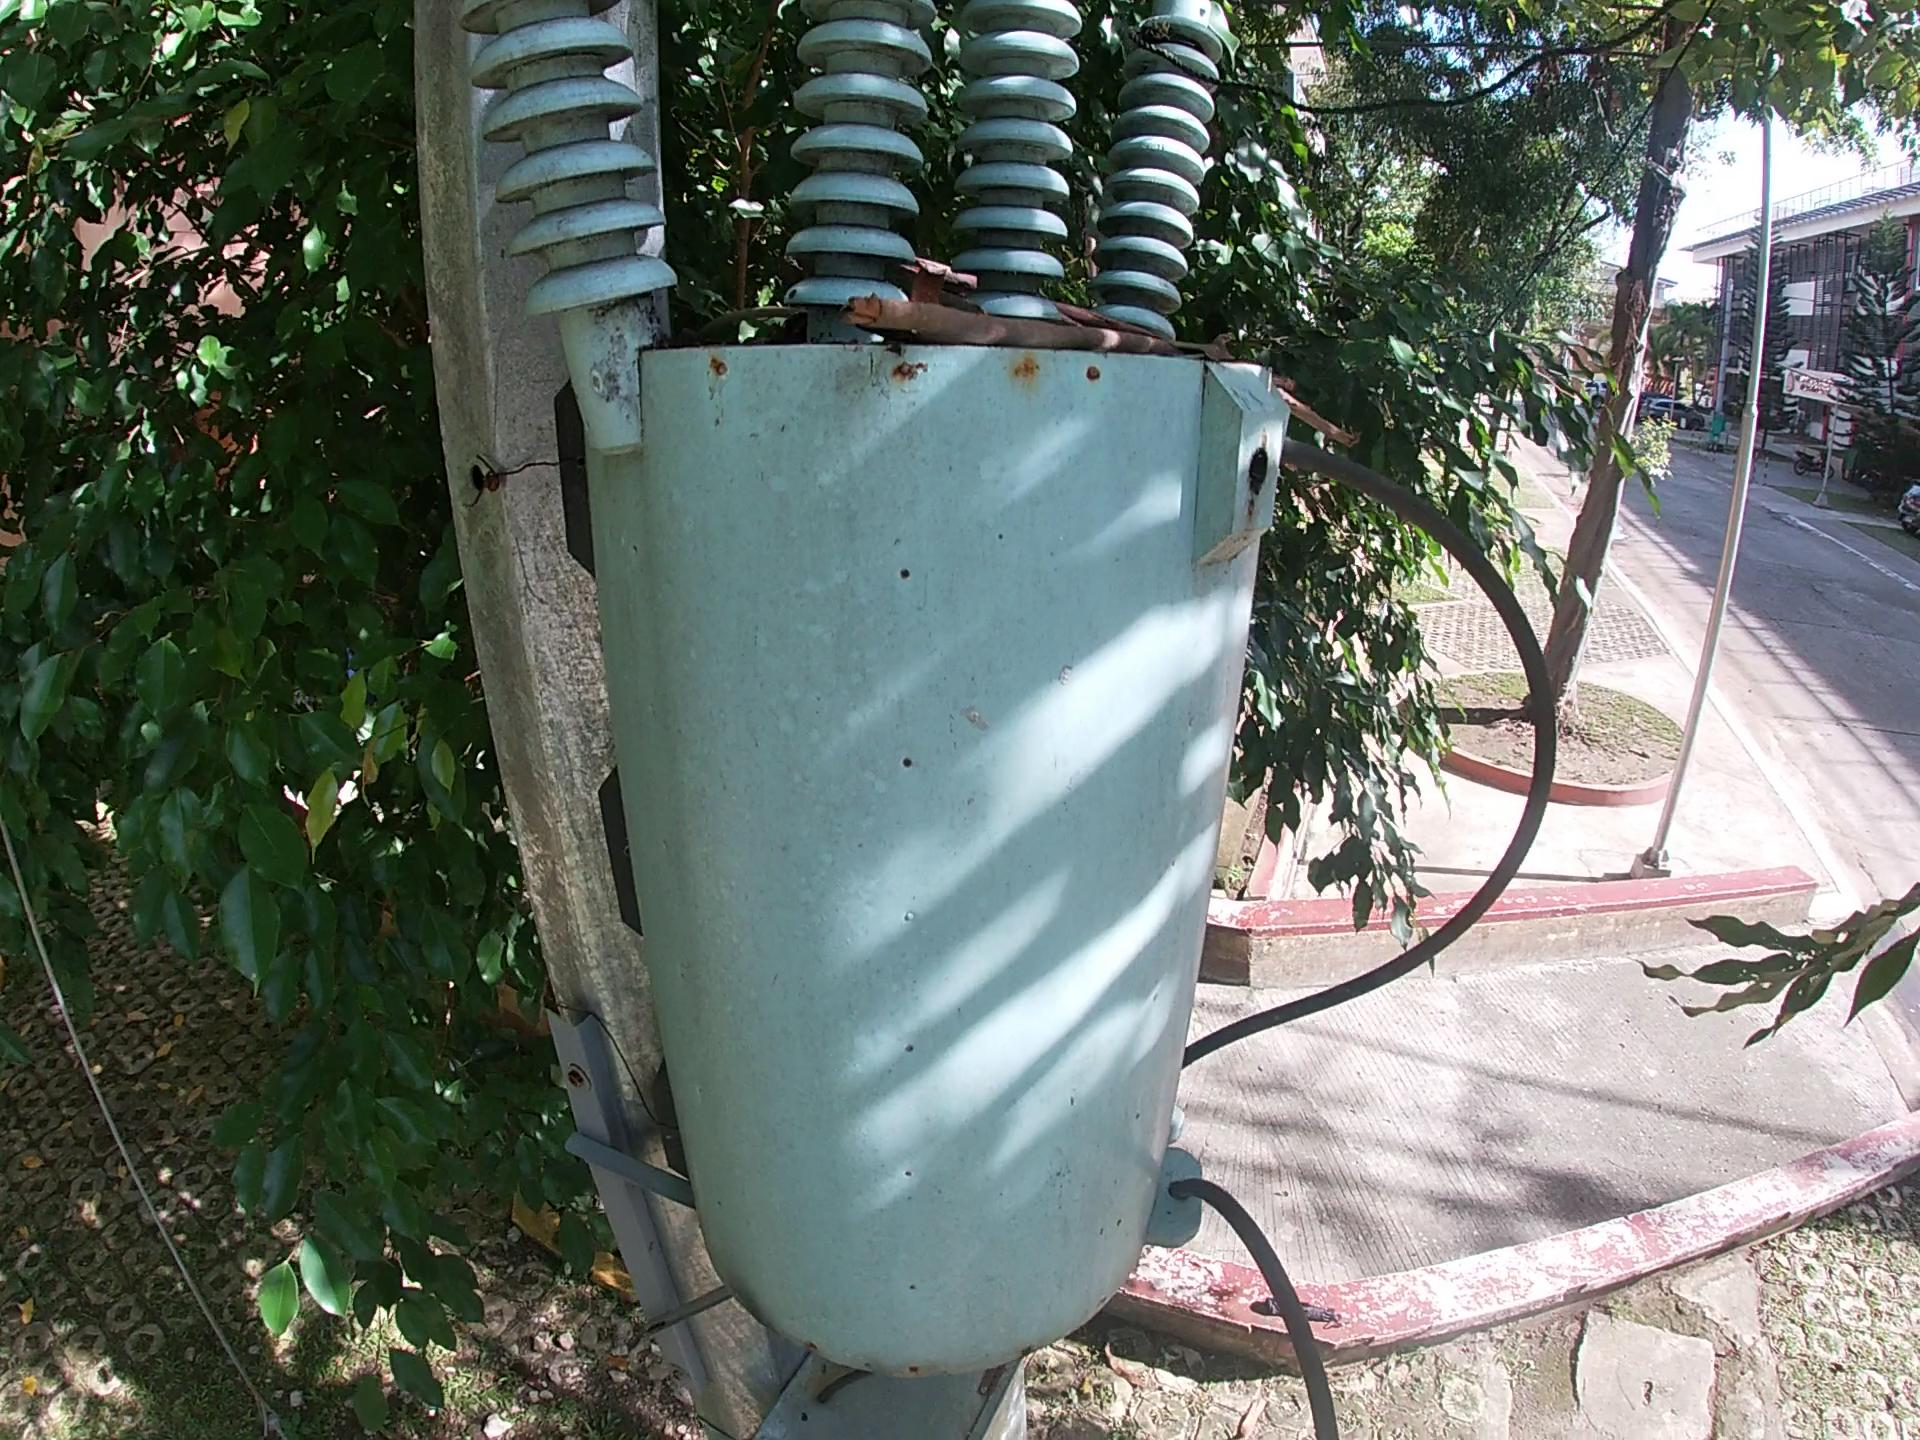mahogany fruit: (906, 262, 948, 307)
tree branch: (836, 293, 1368, 451), (893, 254, 1161, 337), (691, 303, 804, 337)
